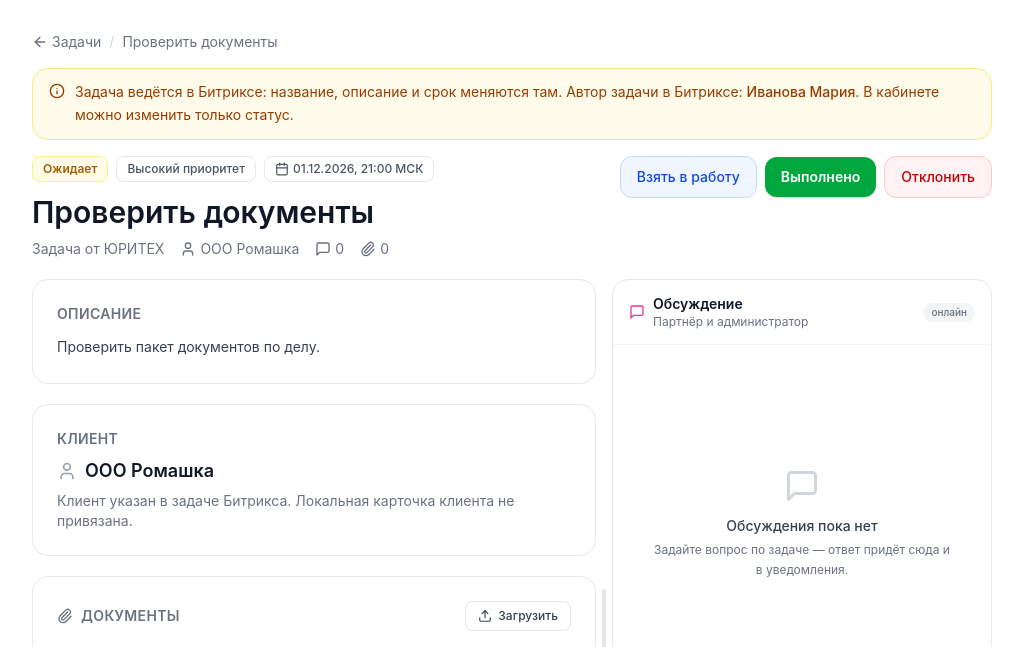
Test: TaskDetail: задача из Битрикса › rejects with the entered reason through the partner status endpoint
Click the button "Отклонить" at [938, 176], box x1=884 y1=156 x2=992 y2=198
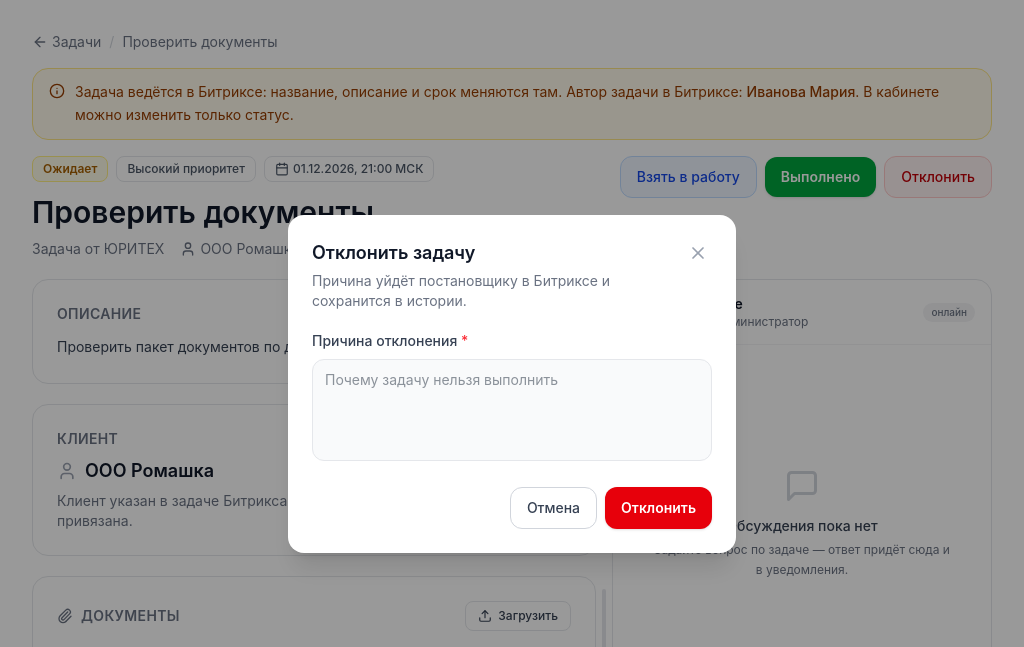
Type "  Не хватает документов  " into the text box labelled "Причина отклонения *" at [512, 410], box x1=312 y1=359 x2=712 y2=461
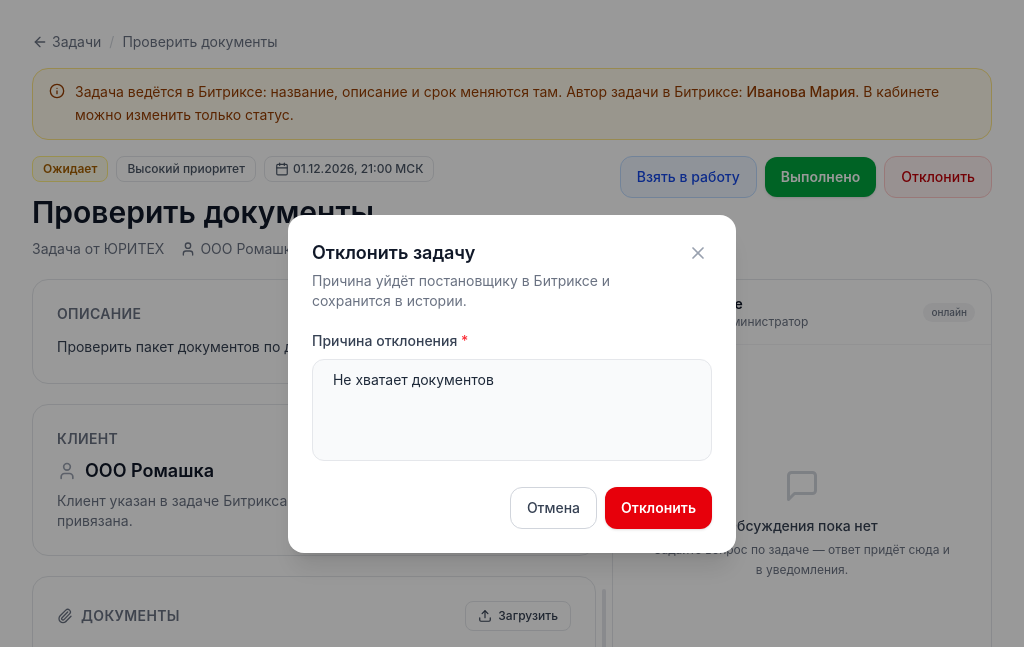
Click the button "Отклонить" at [659, 508], box x1=605 y1=487 x2=712 y2=529
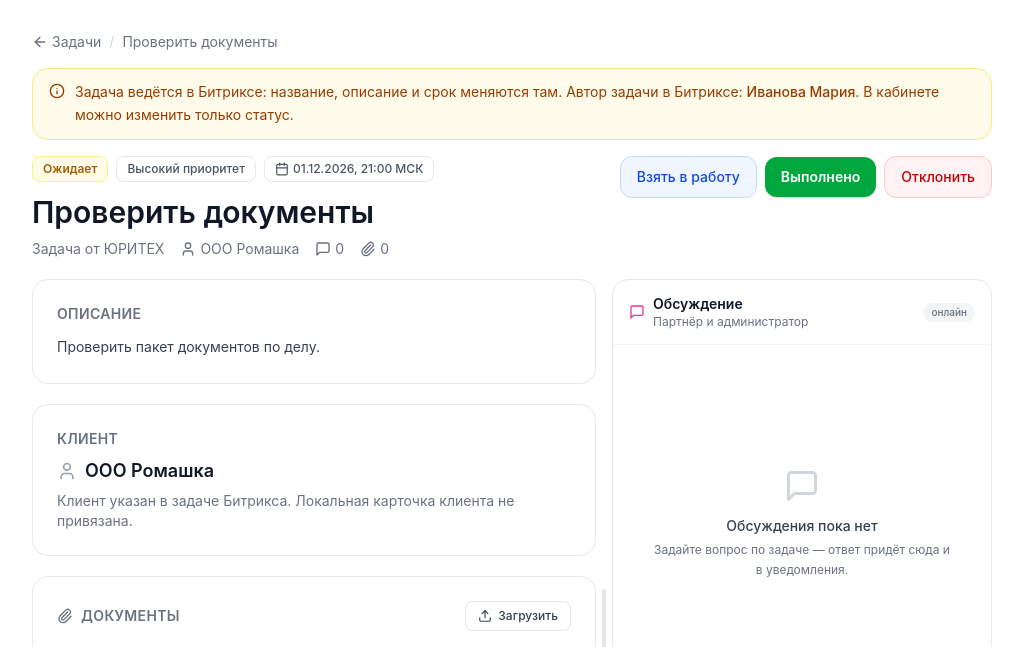
Expected: the dialog is gone
